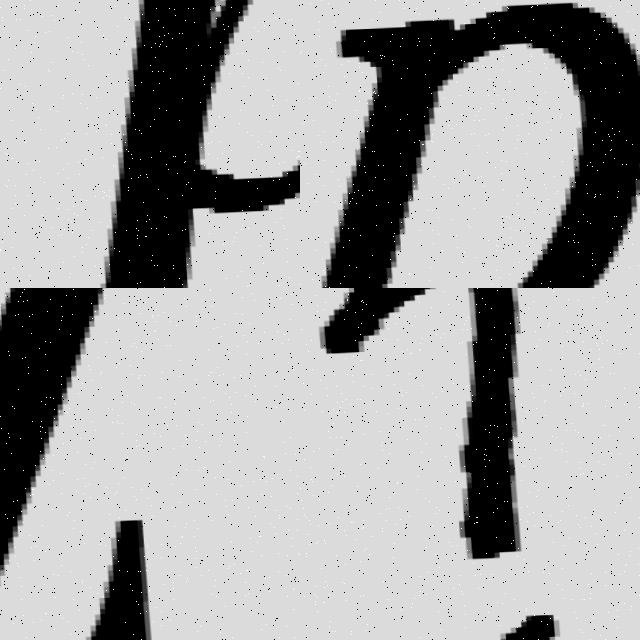D: (300, 0, 640, 288), (38, 0, 300, 288)
I: (302, 288, 562, 640)
Z: (0, 288, 182, 640)
